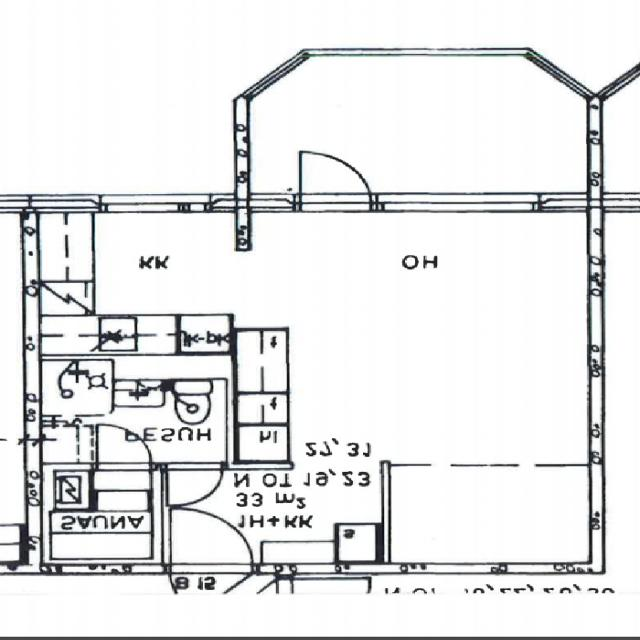door: (171, 506, 251, 574), (299, 142, 370, 212), (167, 464, 222, 510), (98, 426, 150, 471)
